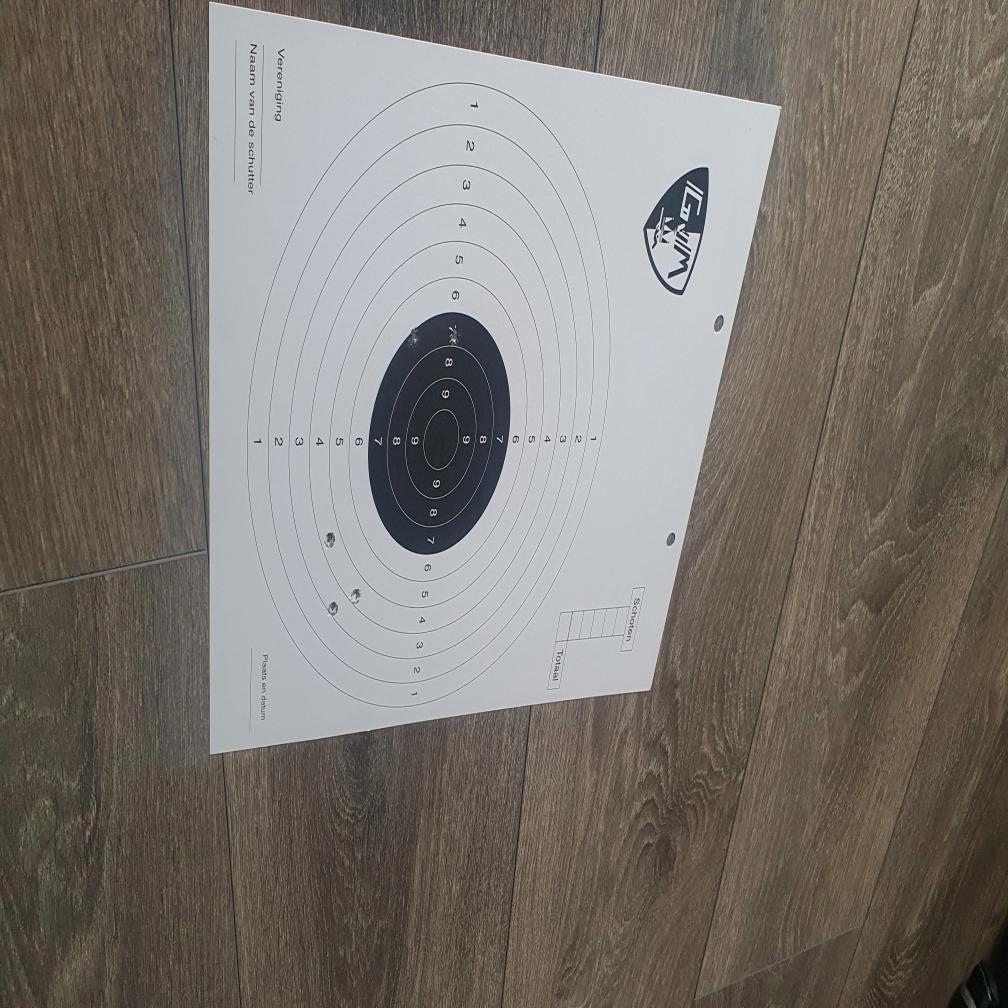3: (327, 600, 339, 618)
4: (324, 530, 336, 551), (350, 588, 362, 606)
7: (407, 327, 420, 350), (449, 324, 460, 348)
Target: (246, 77, 610, 710)
black_contour: (368, 312, 510, 556)
